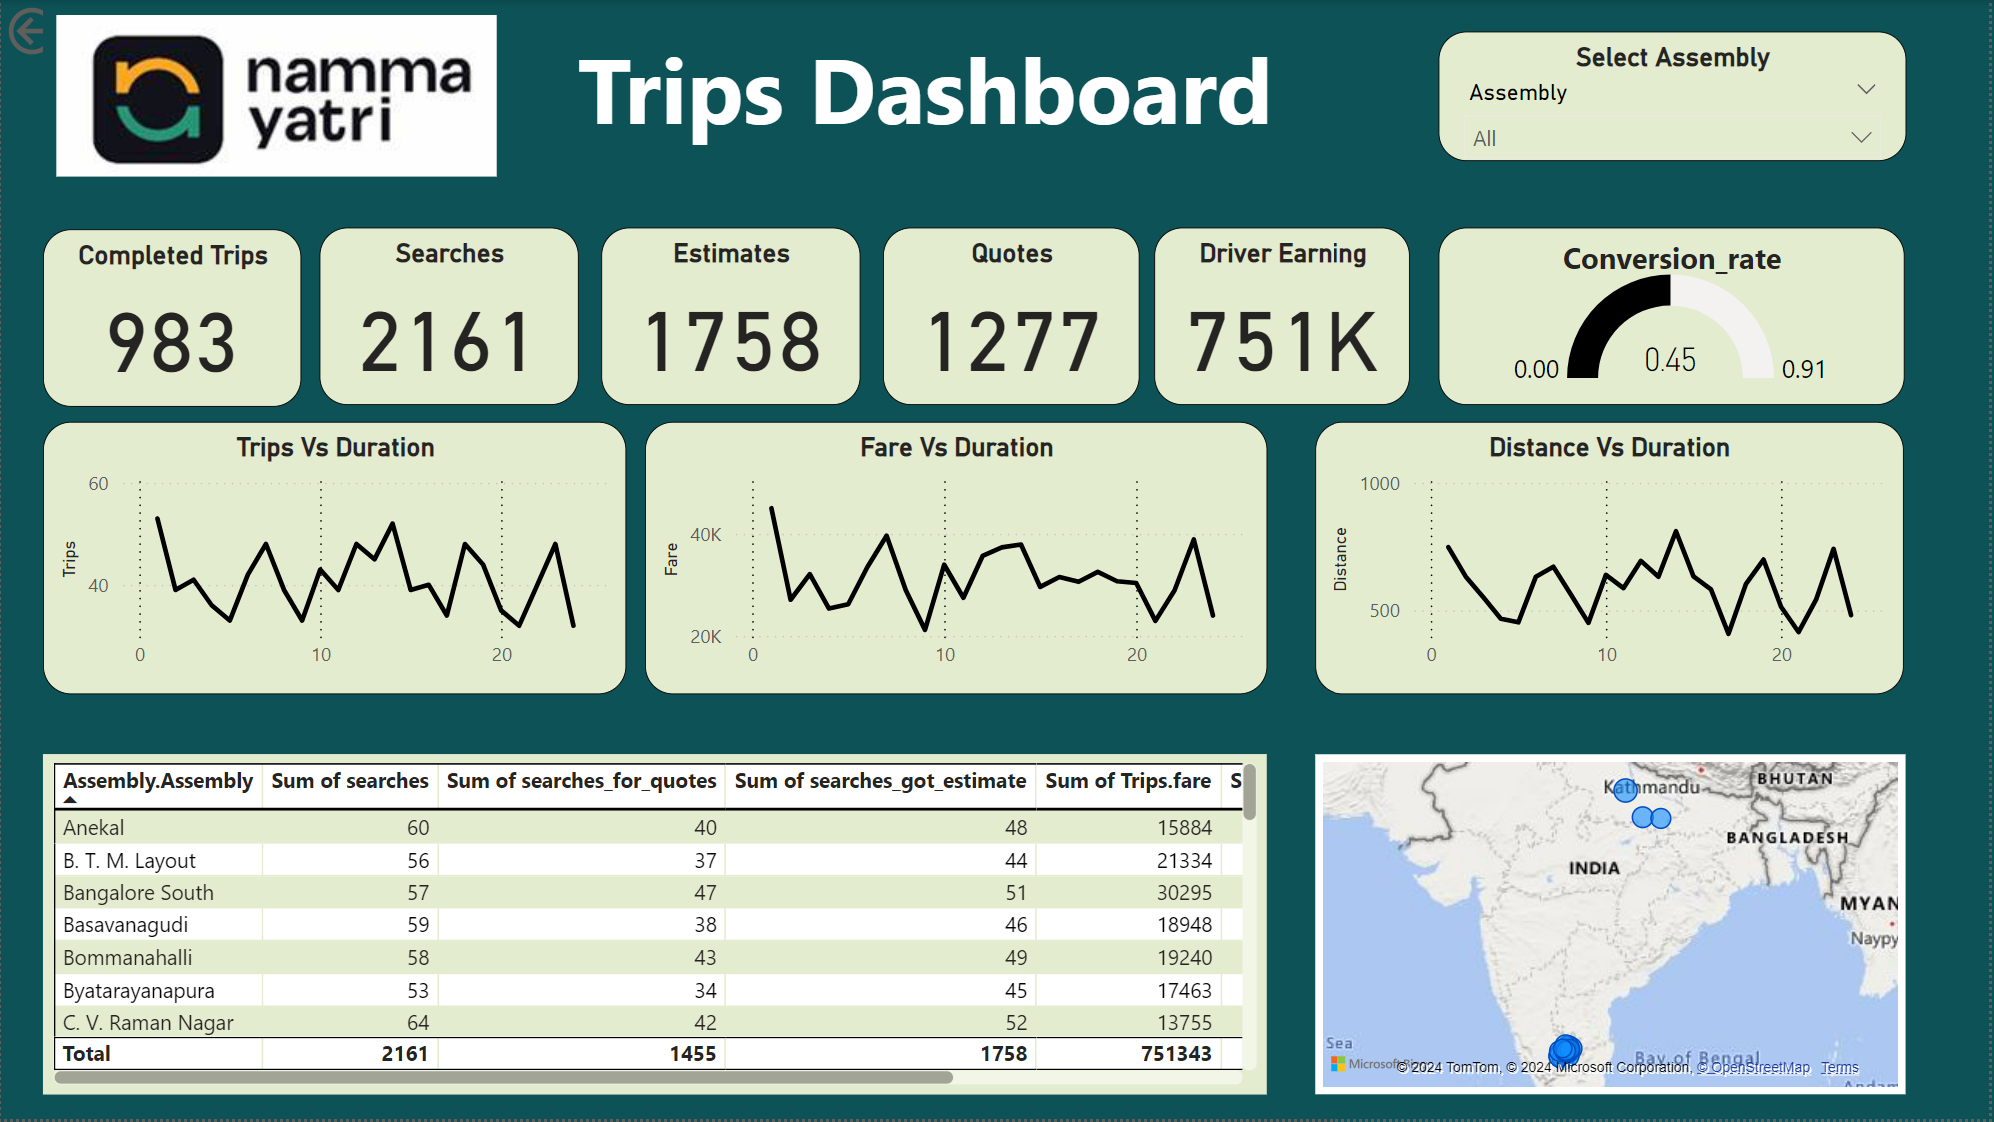

The page's visual inventory and layout, read from the dashboard file:
{"tool":"powerbi","page":{"name":"Page 1","canvas":[1280,720],"ordinal":0},"visuals":[{"type":"card","title":"Completed Trips","fields":{"Values":["Sum(Trip_Details.end_ride)"]},"box":[26.8,147.2,166.5,114.5],"z":0},{"type":"card","title":"Quotes","fields":{"Values":["Sum(Trip_Details.searches_got_quotes)"]},"box":[567.2,146.8,165.4,114.4],"z":1000},{"type":"card","title":"Estimates","fields":{"Values":["Sum(Trip_Details.searches_got_estimate)"]},"box":[386.8,146.8,166.7,114.4],"z":2000},{"type":"card","title":"Searches","fields":{"Values":["Sum(Trip_Details.searches)"]},"box":[205.2,146.8,166.7,114.4],"z":3000},{"type":"card","title":"Driver Earning","fields":{"Values":["Sum(Trips.fare)"]},"box":[742.5,146.8,165.4,114.4],"z":4000},{"type":"gauge","fields":{"Y":["Trip_Details.Conversion_rate"]},"box":[925.4,146.8,299.7,114.4],"z":5000},{"type":"lineChart","title":"Trips Vs Duration","fields":{"Category":["Trips.duration"],"Y":["CountNonNull(Trips.tripid)"]},"box":[27.4,271.1,375.6,175.4],"z":6000},{"type":"lineChart","title":"Distance Vs Duration","fields":{"Category":["Trips.duration"],"Y":["Sum(Trips.distance)"]},"box":[845.8,271.1,379.3,175.4],"z":7000},{"type":"lineChart","title":"Fare Vs Duration","fields":{"Y":["Sum(Trips.fare)"],"Category":["Trips.duration"]},"box":[414.2,271.1,400.5,175.4],"z":8000},{"type":"tableEx","fields":{"Values":["Merge2.Assembly.Assembly","Sum(Merge2.searches)","Sum(Merge2.searches_for_quotes)","Sum(Merge2.searches_got_estimate)","Sum(Merge2.Trips.fare)","Sum(Merge2.Trips.distance)","Trip_Details.Conversion_rate"]},"box":[27.4,485.1,787.3,218.9],"z":9000},{"type":"actionButton","box":[0,0,100,40],"z":10000},{"type":"map","fields":{"Category":["Merge2.Assembly.Assembly"],"Size":["CountNonNull(Merge2.tripid)"]},"box":[845.8,485.1,380.6,218.9],"z":11000},{"type":"image","box":[27.4,5,301,114.4],"z":12000},{"type":"textbox","box":[324.6,11.2,541,92],"z":13000},{"type":"slicer","title":"Select Assembly","fields":{"Values":["Merge2.Assembly.Assembly"]},"box":[925.4,19.9,301,83.3],"z":14000}]}

Visuals, with their boxes in screenshot pixels (x1, y1, x2, y2), scaled from the page's 1280x720 canvas onto the 1994x1122 screenshot:
"Completed Trips" card: <box>42,229,301,408</box>
"Quotes" card: <box>884,229,1141,407</box>
"Estimates" card: <box>603,229,862,407</box>
"Searches" card: <box>320,229,579,407</box>
"Driver Earning" card: <box>1157,229,1414,407</box>
gauge - Trip_Details.Conversion_rate: <box>1442,229,1908,407</box>
"Trips Vs Duration" lineChart: <box>43,422,628,696</box>
"Distance Vs Duration" lineChart: <box>1318,422,1908,696</box>
"Fare Vs Duration" lineChart: <box>645,422,1269,696</box>
tableEx - Merge2.Assembly.Assembly x Sum(Merge2.searches): <box>43,756,1269,1097</box>
actionButton: <box>0,0,156,62</box>
map - Merge2.Assembly.Assembly x CountNonNull(Merge2.tripid): <box>1318,756,1911,1097</box>
image: <box>43,8,512,186</box>
textbox: <box>506,17,1348,161</box>
"Select Assembly" slicer: <box>1442,31,1911,161</box>
